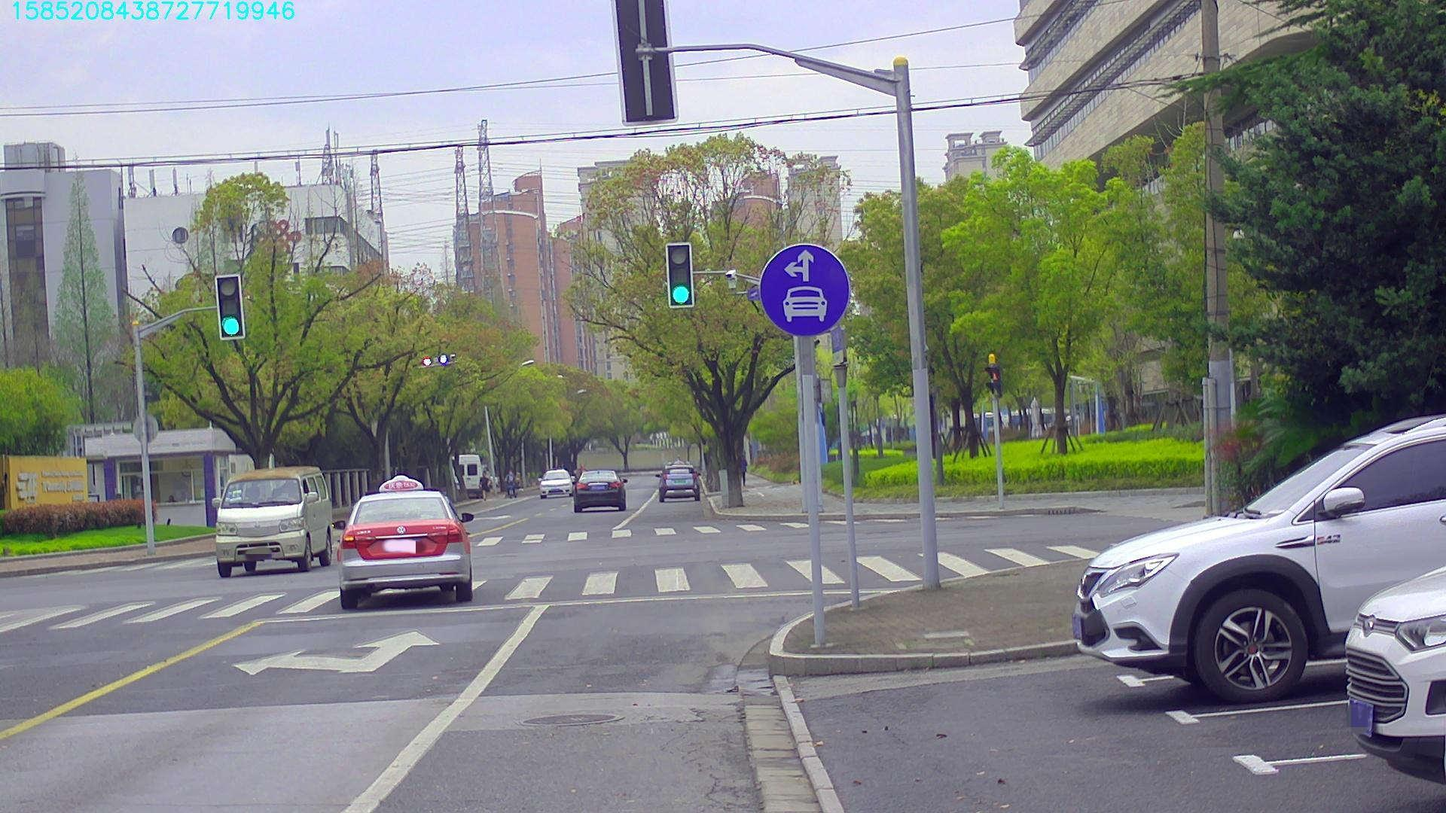green: (667, 244, 692, 308), (217, 275, 243, 336)
